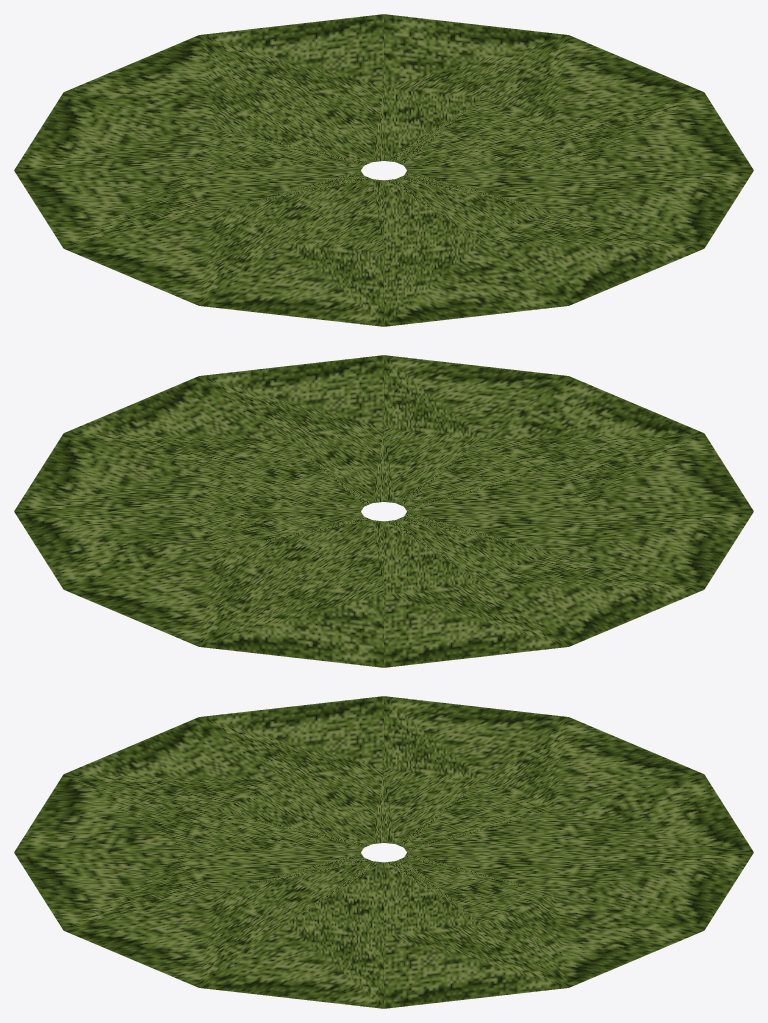
3 views of the same model, one above another, from view 1: azimuth 30°, elevation 25°; view 2: azimuth 150°, elevation 25°; view 3: azimuth 270°, elevation 25° (orthographic).
Visible parts, largest first — view 1: mesh00; view 2: mesh00; view 3: mesh00.
Boxes of the visible parts, x1=… form: mesh00: x1=14, y1=14, x2=753, y2=326; mesh00: x1=14, y1=355, x2=753, y2=667; mesh00: x1=14, y1=696, x2=753, y2=1008.
Bounding box in the file's own units: 980 × 1 × 980.
